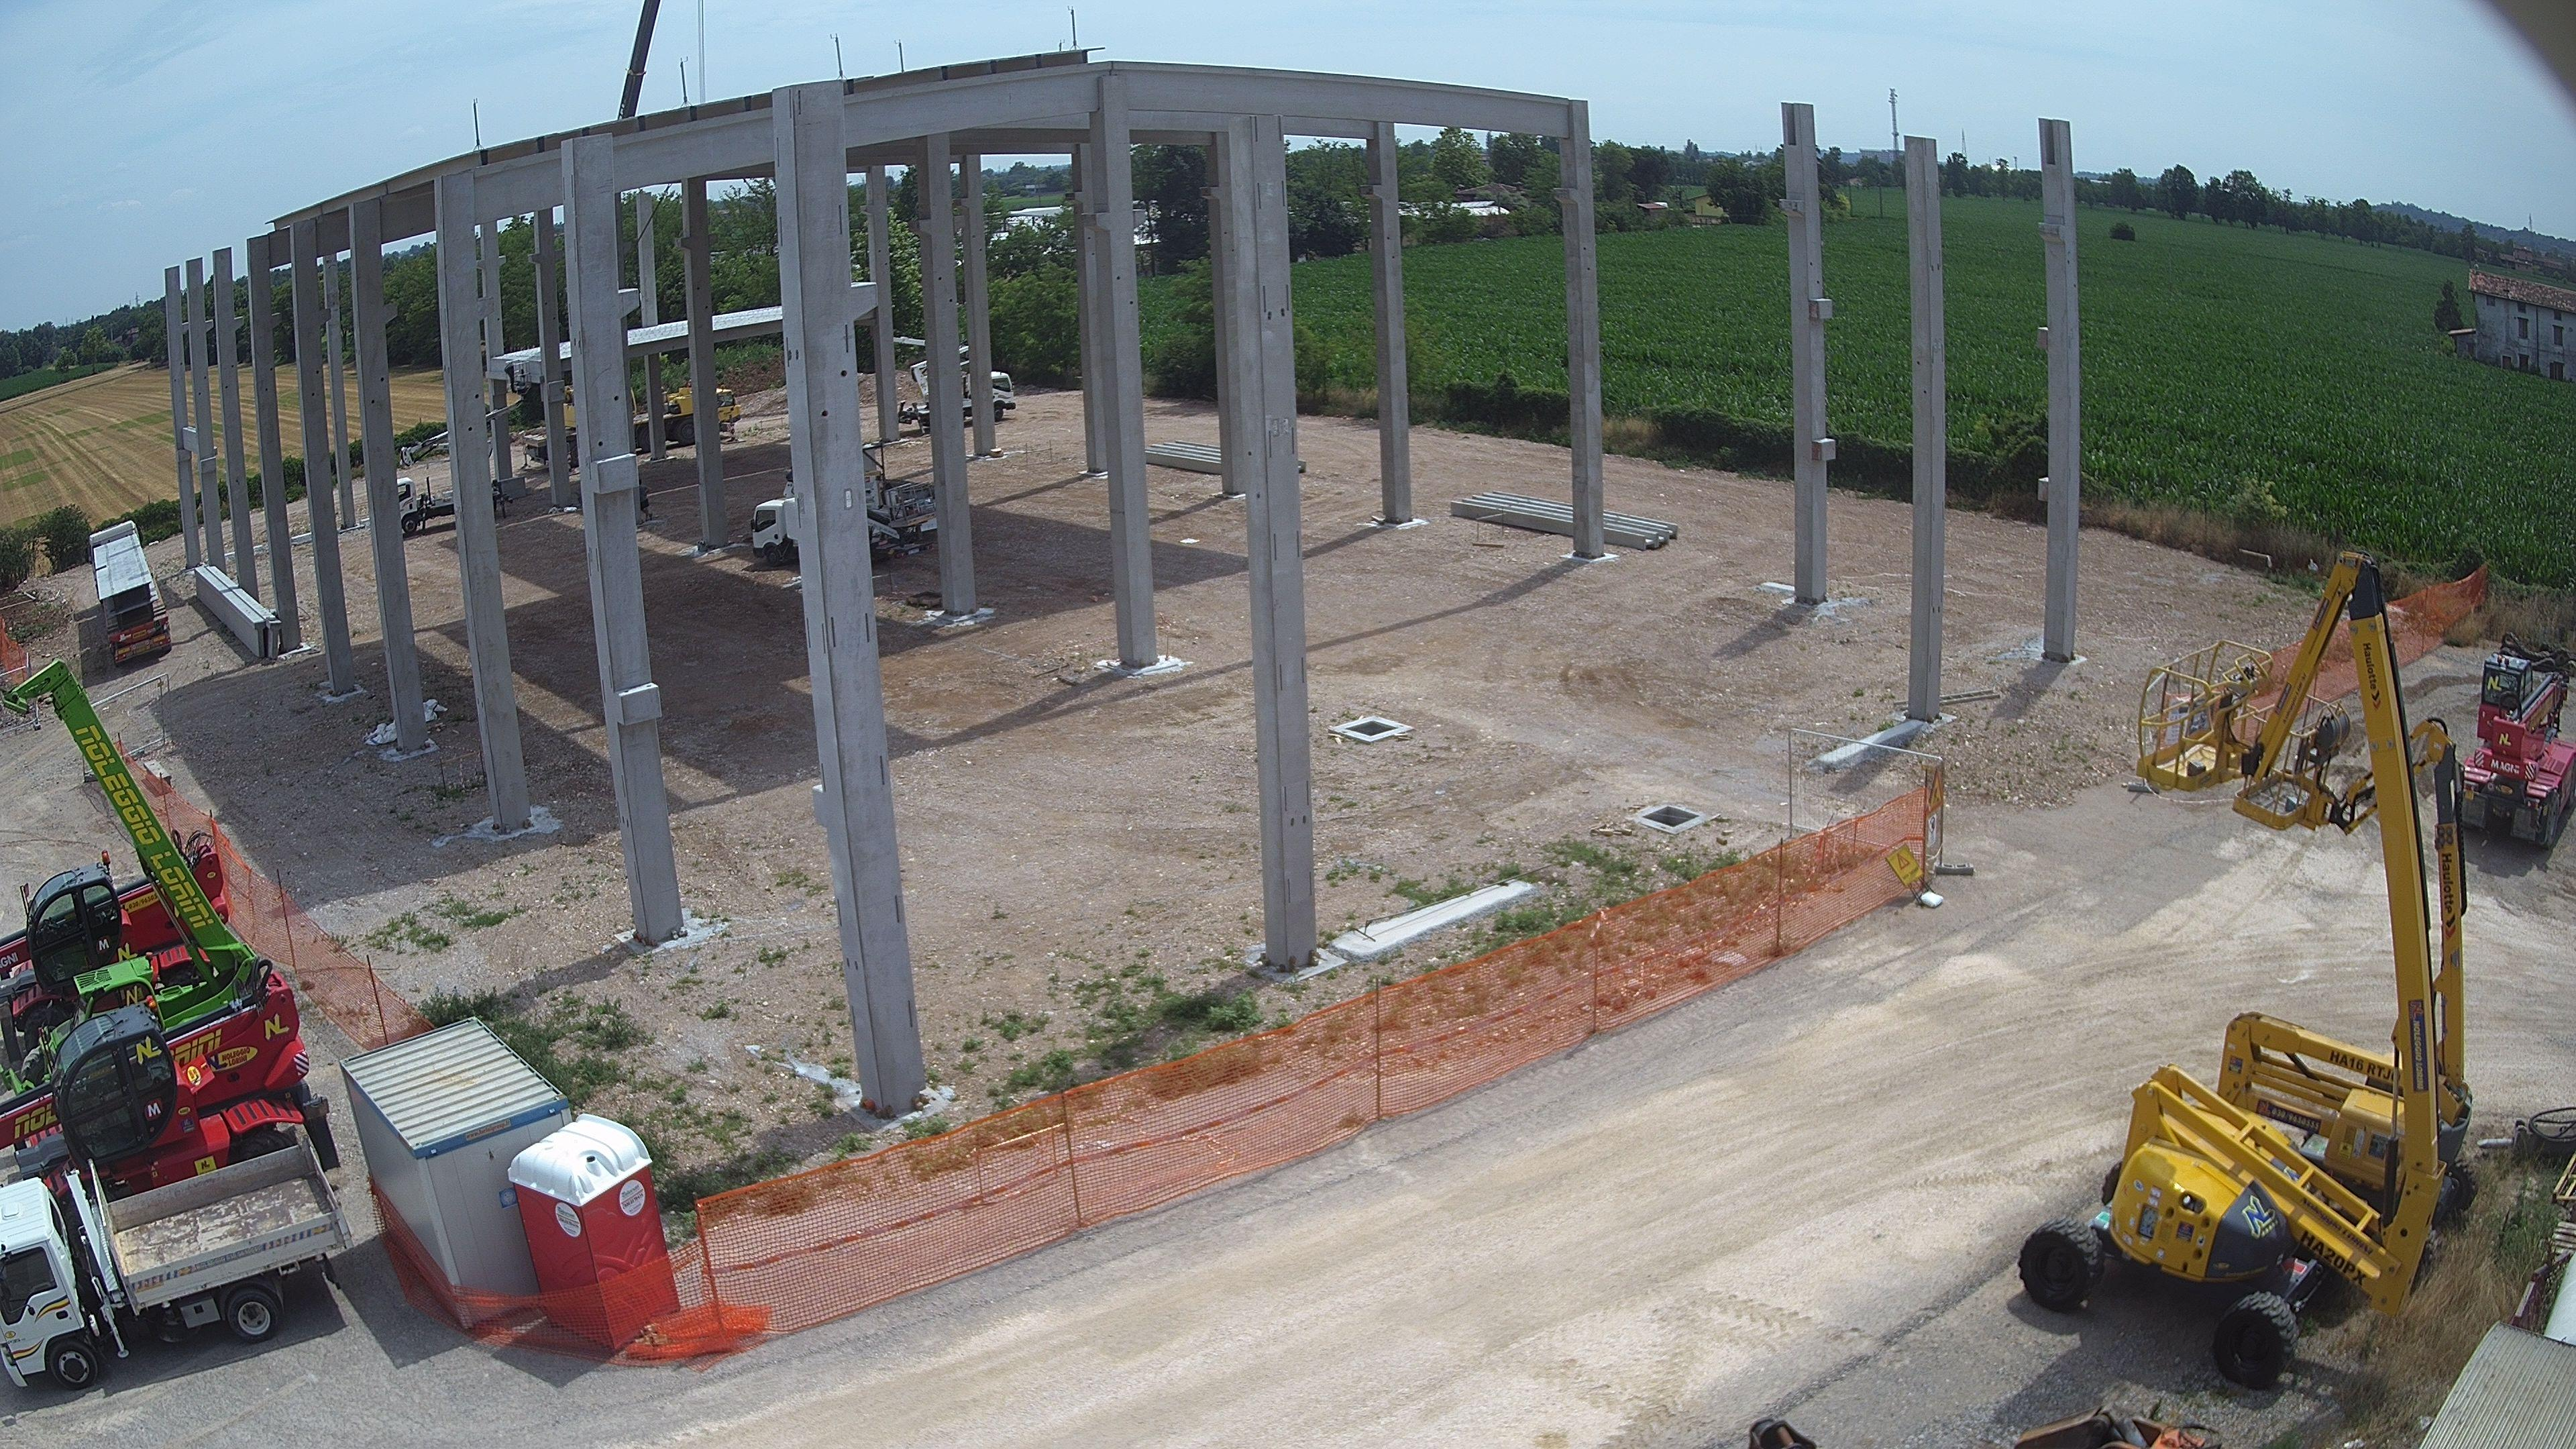Aerial platforms: (2013, 547, 2445, 1389), (0, 660, 262, 1108), (2210, 1007, 2406, 1217), (2410, 717, 2486, 1224), (398, 359, 534, 538), (2224, 685, 2383, 837), (892, 336, 1017, 432), (865, 481, 936, 559), (748, 464, 800, 566)
Trucks: (0, 1123, 350, 1394), (88, 518, 173, 663)
excavator: (0, 959, 341, 1261), (0, 830, 234, 1067), (2459, 649, 2576, 853), (515, 380, 741, 472), (617, 0, 662, 120)
